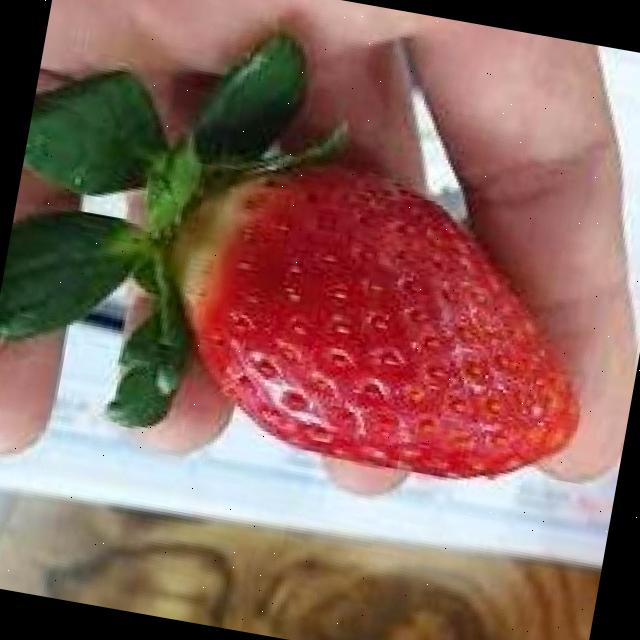strawberry: (140, 139, 615, 501)
